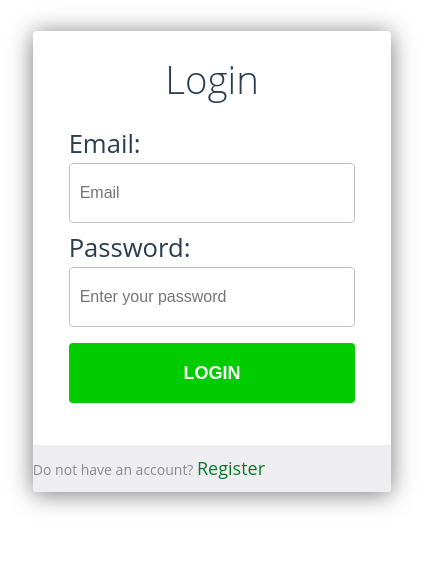
Test: Login component › renders error for invalid email
The image size is (425, 567).
Type "test" into the field with test id "email".
click(212, 193); type("test")  # box [69,163,355,223]
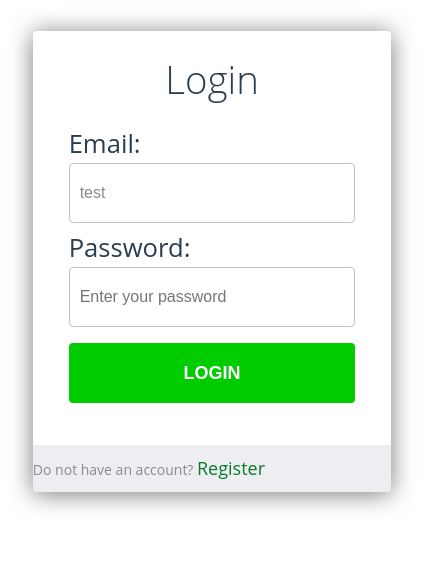
Leave the field with test id "email", box [69,163,355,223]
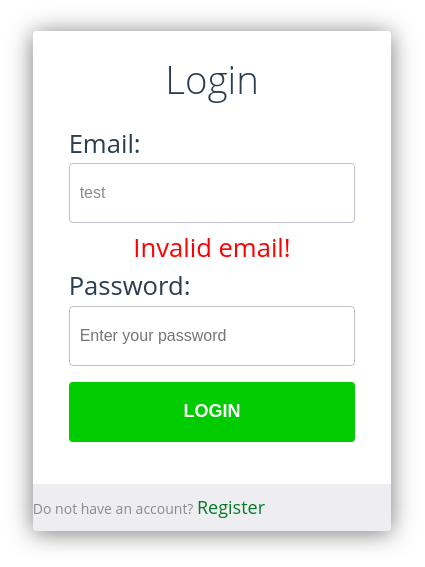
Expected: the text "Invalid email!" is shown, [133,230,291,265]
